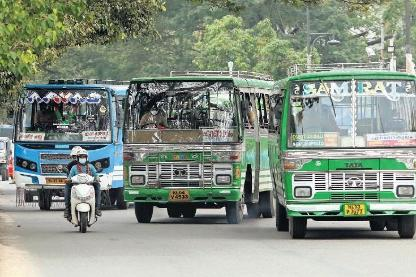bike: (60, 141, 102, 234)
bus: (268, 65, 416, 244), (120, 69, 278, 227), (13, 76, 122, 212)
